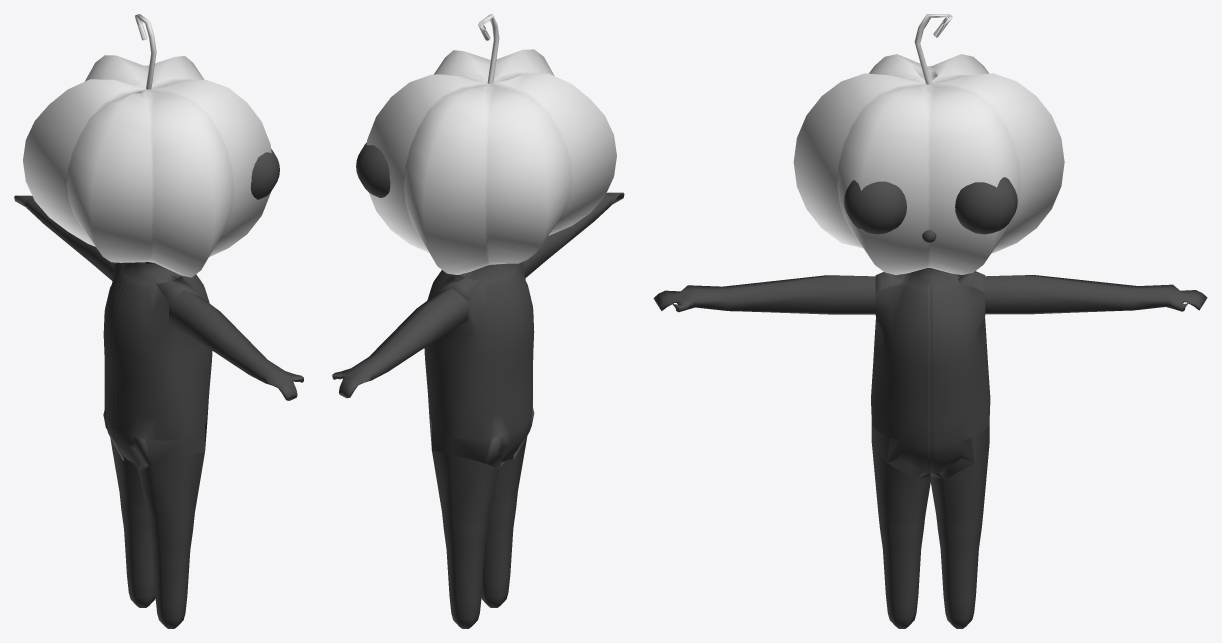
File: aboboraPerson.fbx
3 renders of one model, left to right at view 1: azimuth 30°, elevation 25°; view 2: azimuth 150°, elevation 25°; view 3: azimuth 270°, elevation 25°, orthographic.
Parts seen in each view (by area): view 1: Cabeça, Corpo, Olhos, Talinho; view 2: Cabeça, Corpo, Olhos, Talinho; view 3: Corpo, Cabeça, Olhos.
Part boxes in pixels (x1,y1,x2,y2): Cabeça: (23, 55, 271, 277); Corpo: (14, 195, 303, 628); Olhos: (250, 149, 279, 199); Talinho: (135, 14, 156, 89); Cabeça: (366, 49, 616, 274); Corpo: (332, 192, 624, 628); Olhos: (356, 142, 390, 197); Talinho: (478, 14, 499, 83); Corpo: (653, 268, 1207, 628); Cabeça: (793, 54, 1064, 274); Olhos: (844, 177, 1017, 234).
Size of the model in its own units: 427 by 1263 by 1045.
Materials: 4 (2 with a texture image).
